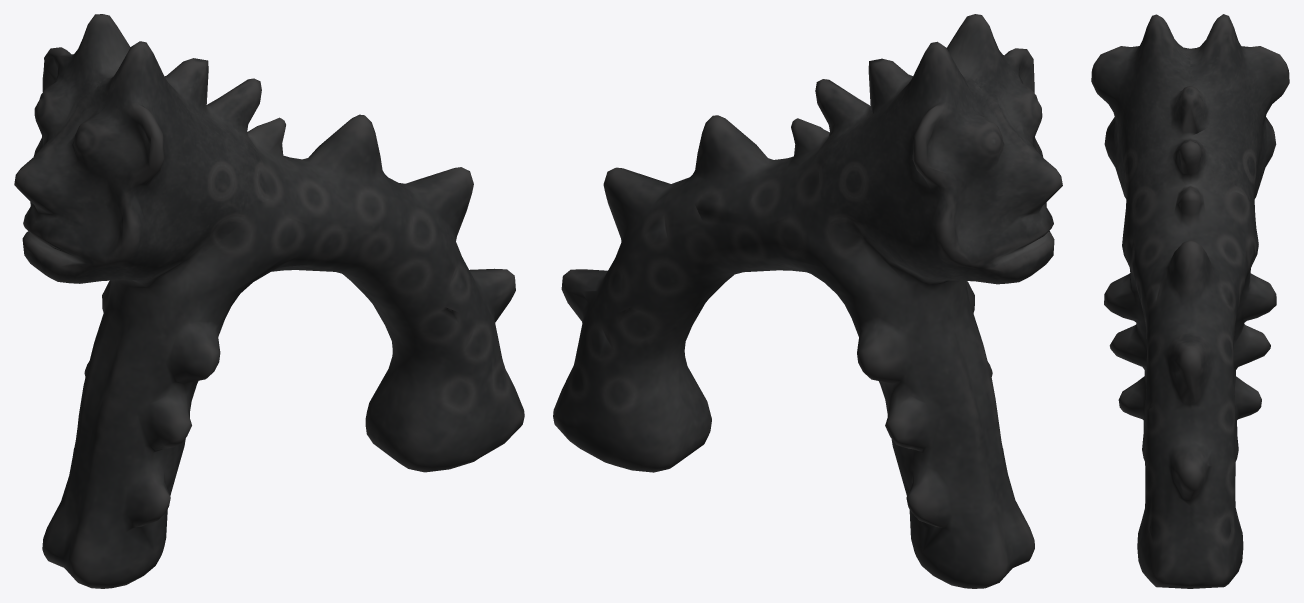
Rendered from SM_RoofOrnament02B.fbx.
The picture shows the model from 3 angles, left to right: view 1: azimuth 30°, elevation 25°; view 2: azimuth 150°, elevation 25°; view 3: azimuth 270°, elevation 25°; orthographic projection. The views are drawn at different scales.
Parts seen in each view (by area): view 1: SM_RoofOrnament02B; view 2: SM_RoofOrnament02B; view 3: SM_RoofOrnament02B.
Boxes of the visible parts, x1,y1,x2,y2 form: SM_RoofOrnament02B: (14,14,524,588); SM_RoofOrnament02B: (553,14,1062,588); SM_RoofOrnament02B: (1091,14,1289,588).
Size of the model in its own units: 33.2 by 13.34 by 34.15.
1 material, 1 textured.
